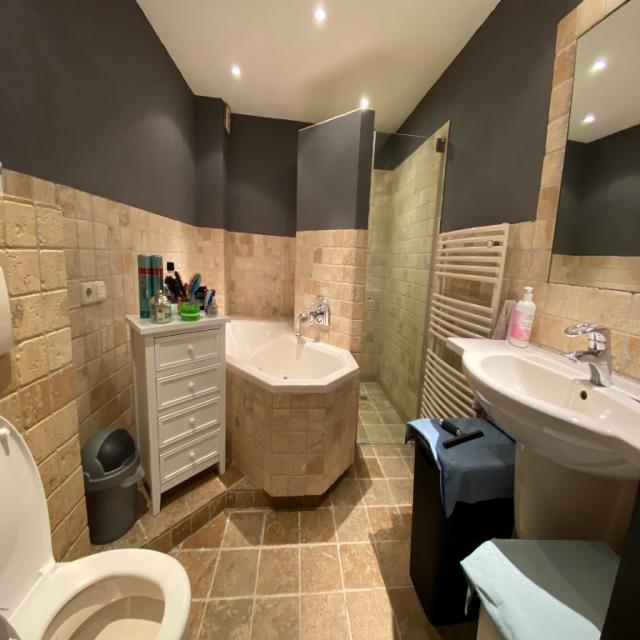bath: (224, 294, 358, 396)
designradiator: (420, 222, 512, 419)
douche: (352, 95, 448, 448)
toilet: (0, 265, 191, 640)
wastafel: (447, 319, 640, 556)
